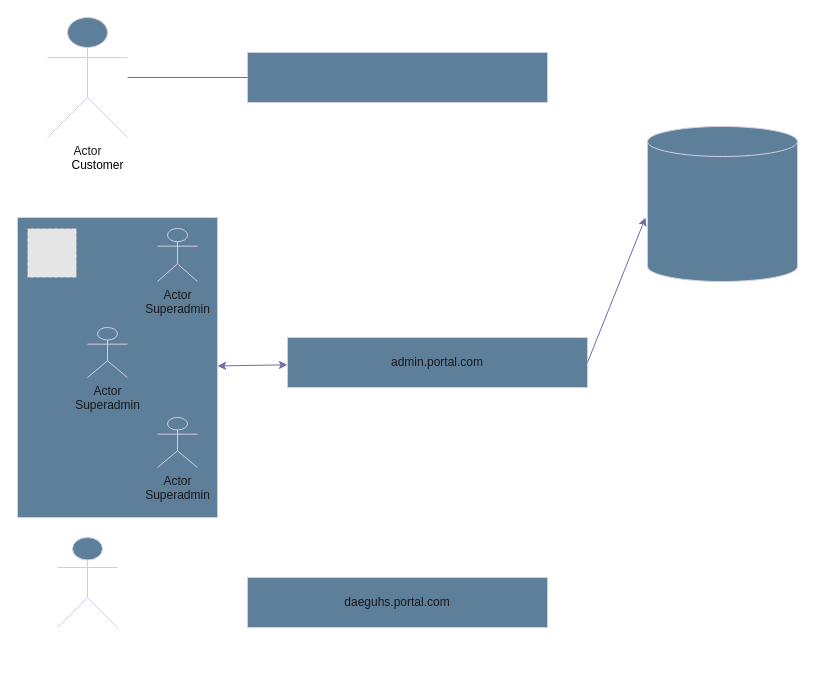
The diagram is 815 pixels wide and 695 high, and some of its shapes have lost their labels. Grey dashed boxes stand in for pictures. Each missing label, with the centre of its shape:
Actor school_users: the point at 87,582
Portal DB: the point at 722,204
shop.portal.com: the point at 397,77
